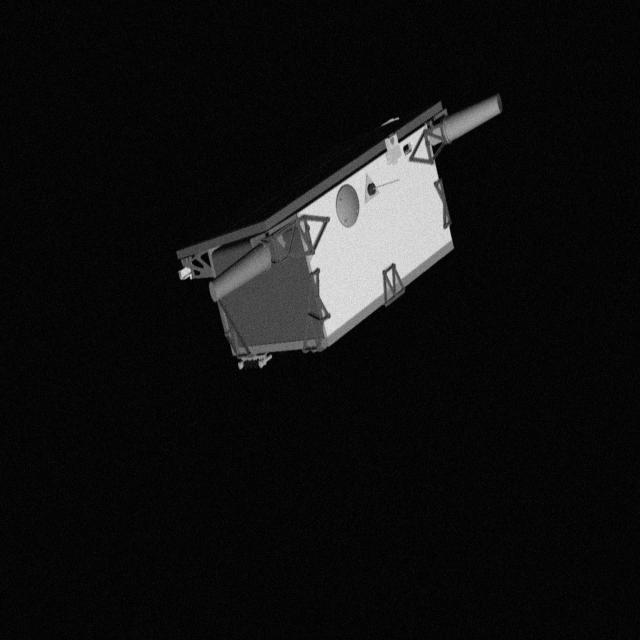satellite: (160, 88, 522, 378)
